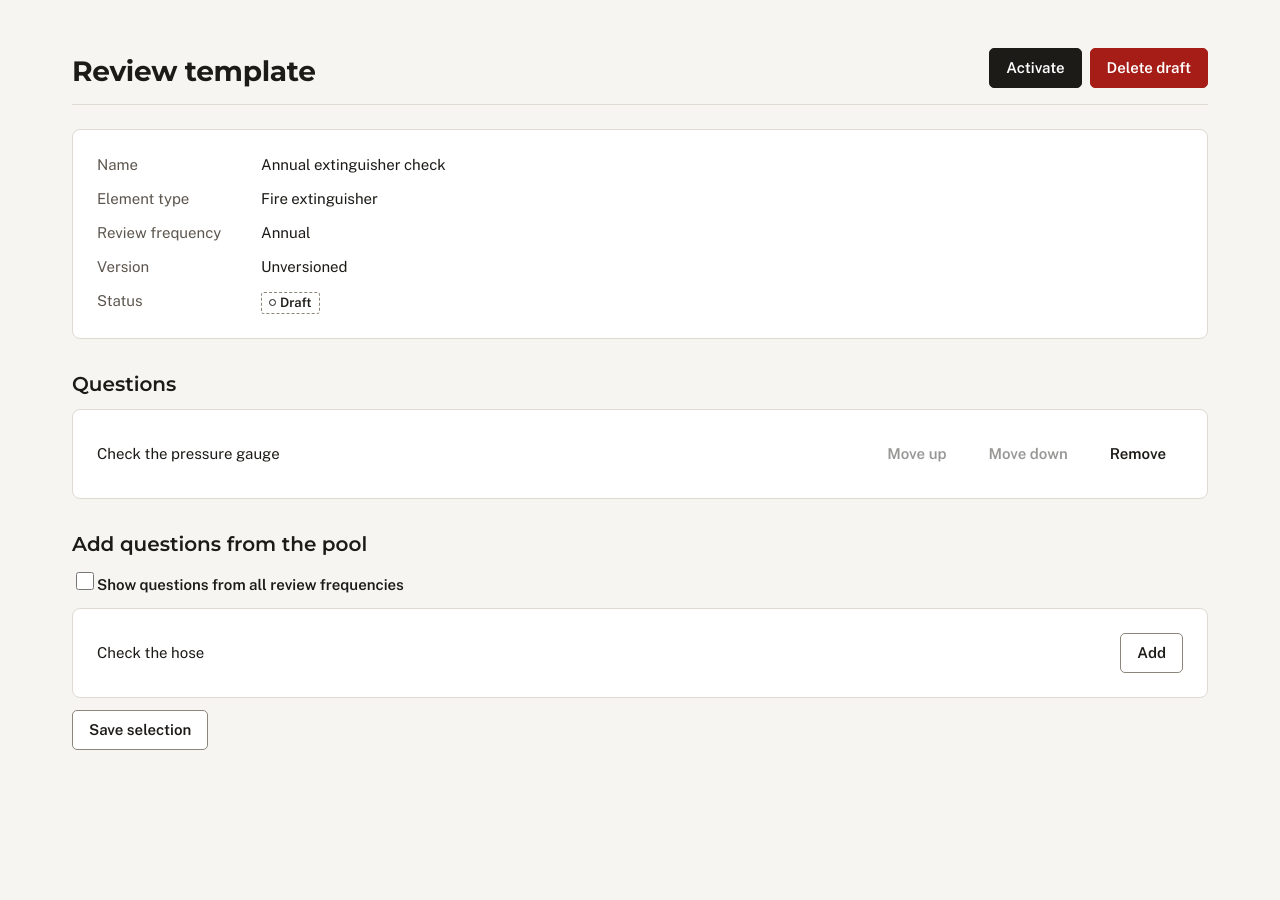
Test: ReviewTemplateDetailPage › draft template › shows the picker pre-filtered by the template frequency, revealed by the "show all" toggle (spec: Frequency pre-filter is a default, not a lock)
This screenshot has width=1280, height=900.
Expected: the list item with test id "review-template-detail-picker-item-question-2" is shown, top-left (72, 608), bottom-right (1208, 698)
Click the checkbox with test id "review-template-detail-show-all-frequencies": (85, 580) top-left (76, 572), bottom-right (94, 590)
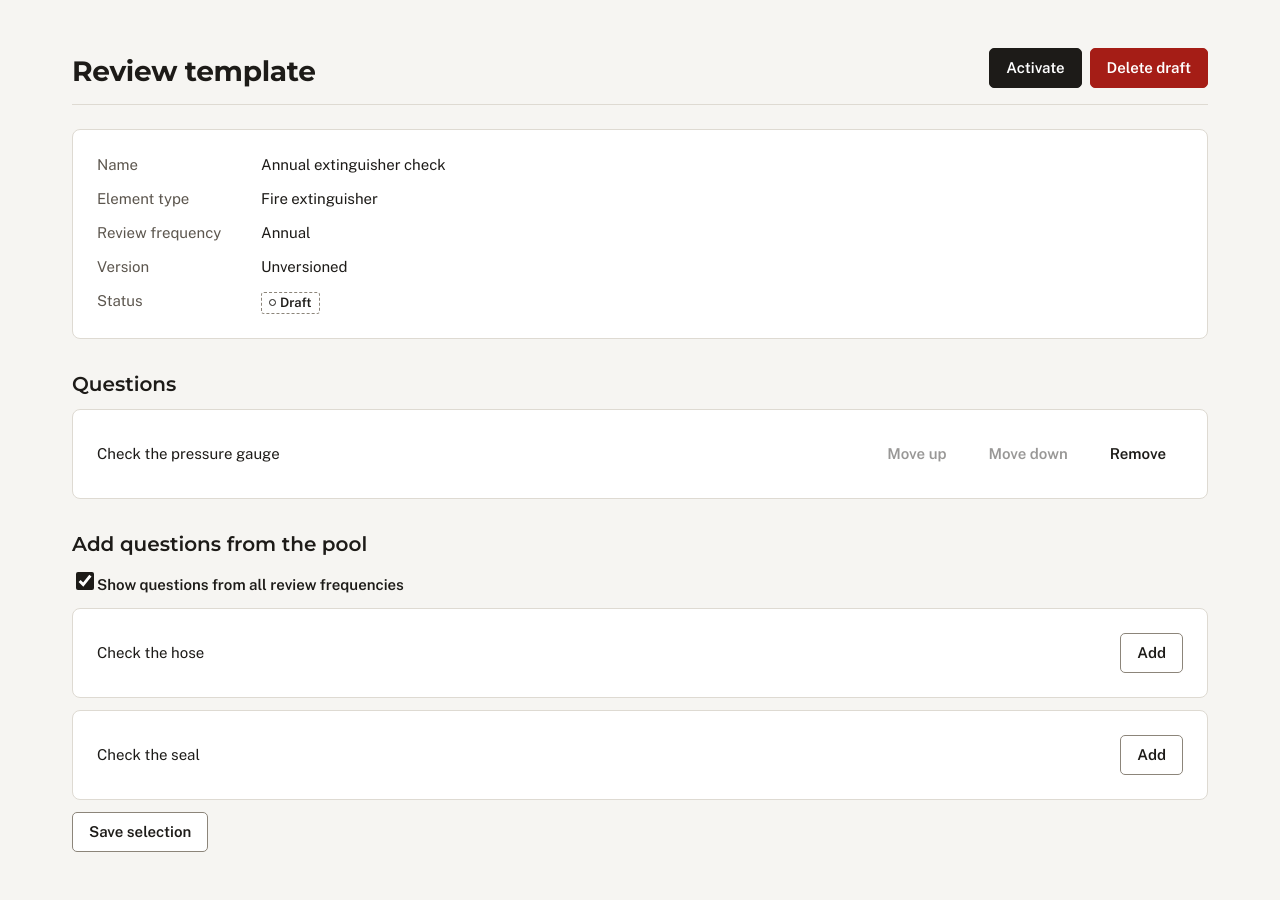
Expected: the list item with test id "review-template-detail-picker-item-question-3" is shown, top-left (72, 710), bottom-right (1208, 800)
